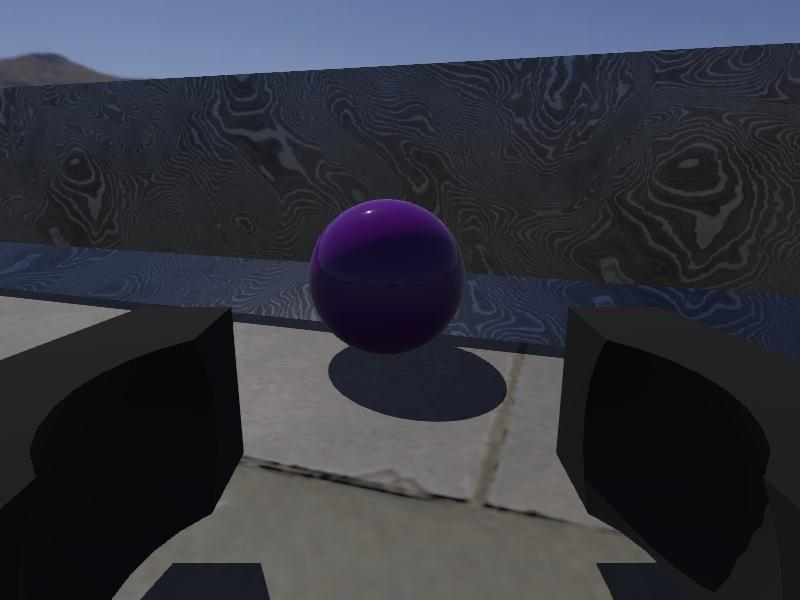violet ball: (307, 197, 467, 357)
